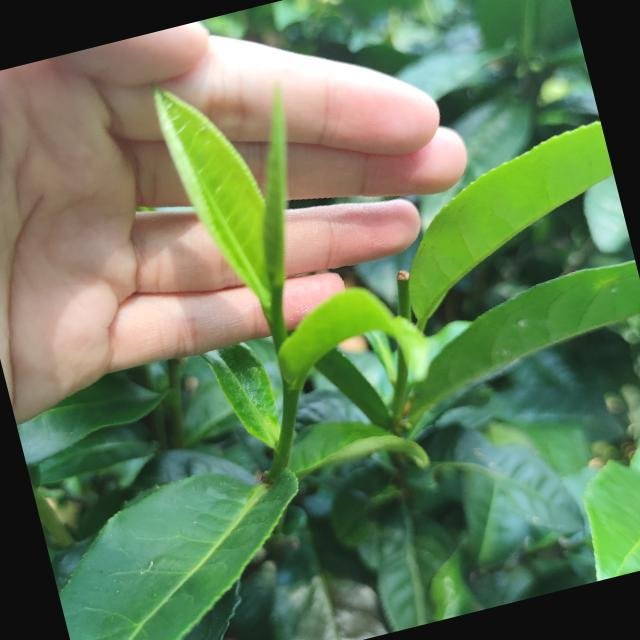Stem: (271, 317, 284, 337)
